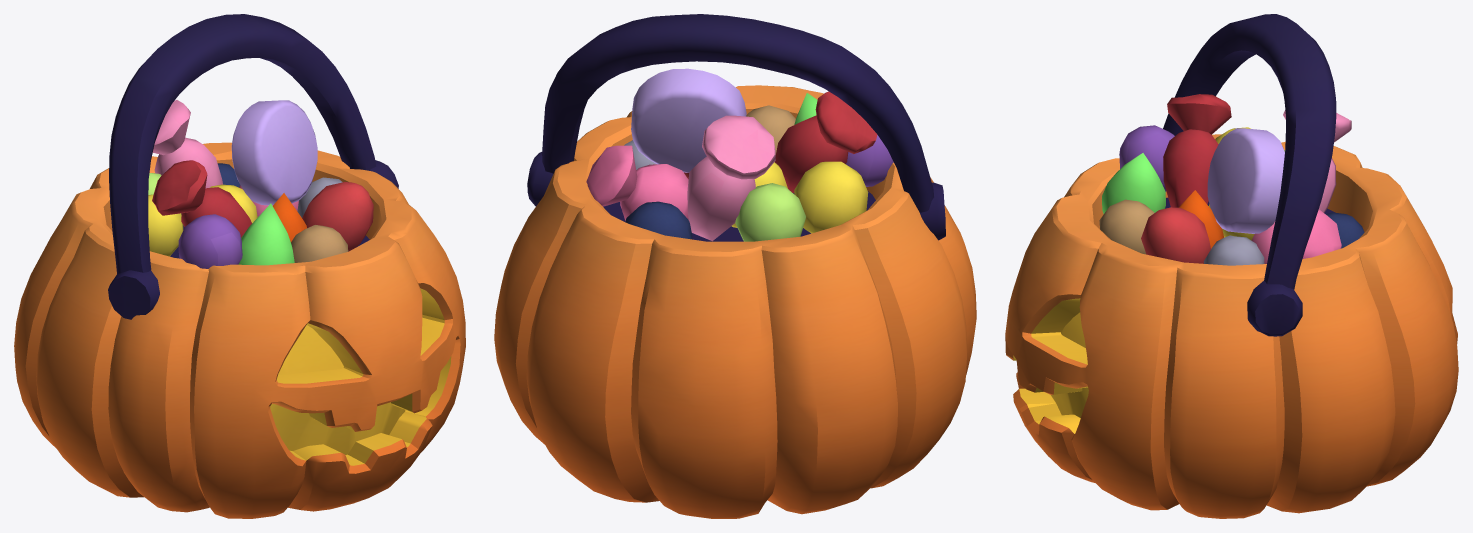
The model's file is WBA_CandyBucket_Set_01.fbx.
3 renders of one model, left to right at view 1: azimuth 30°, elevation 25°; view 2: azimuth 150°, elevation 25°; view 3: azimuth 270°, elevation 25°, orthographic. The views are drawn at different scales.
Parts seen in each view (by area): view 1: WBA_CandyBucket_Set_01; view 2: WBA_CandyBucket_Set_01; view 3: WBA_CandyBucket_Set_01.
Boxes of the visible parts, x1,y1,x2,y2 form: WBA_CandyBucket_Set_01: [14, 14, 465, 518]; WBA_CandyBucket_Set_01: [494, 14, 976, 518]; WBA_CandyBucket_Set_01: [1005, 14, 1458, 518].
Bounding box in the file's own units: 26.82 × 28.27 × 27.36.
